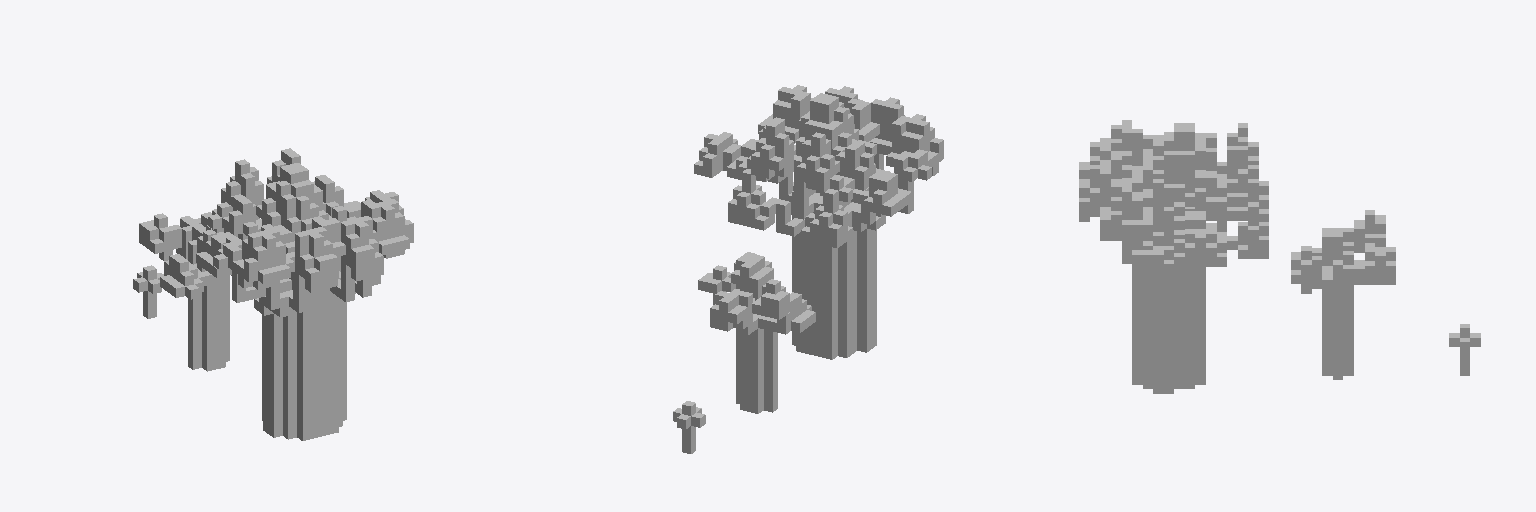
Rendered from arbol.obj.
3 views of the same model, side by side, from view 1: azimuth 30°, elevation 25°; view 2: azimuth 150°, elevation 25°; view 3: azimuth 270°, elevation 25° (orthographic).
Visible parts, largest first — view 1: object 1; view 2: object 1; view 3: object 1.
Part boxes in pixels (x1,y1,x2,y2): object 1: (133,148,413,440); object 1: (673,85,943,453); object 1: (1079,120,1480,393).
Size of the model in its own units: 2.2 by 2.6 by 3.8.